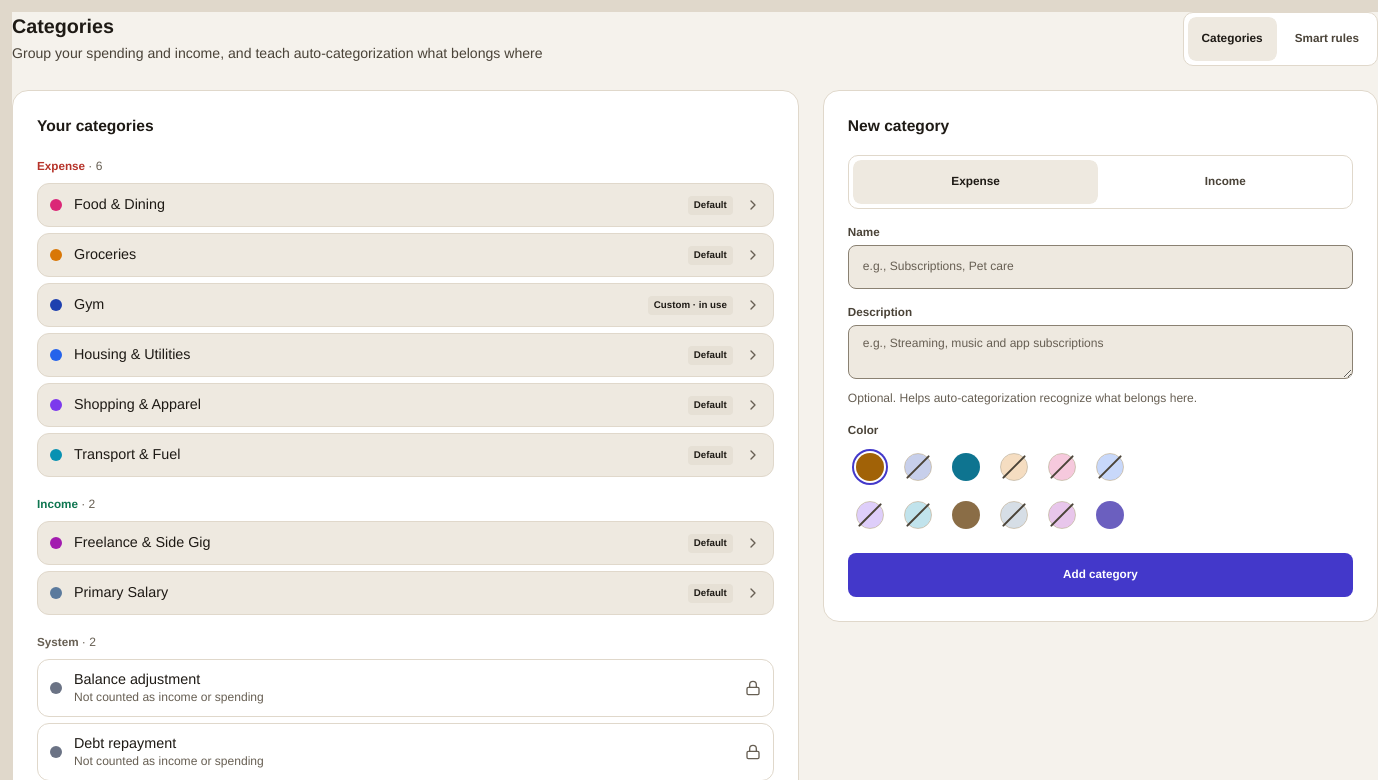
Test case: delete, from lg › a custom category in use has Delete disabled, with what uses it
Click the button with id "category-edit-gym" at (89, 304), box [37, 283, 774, 327]
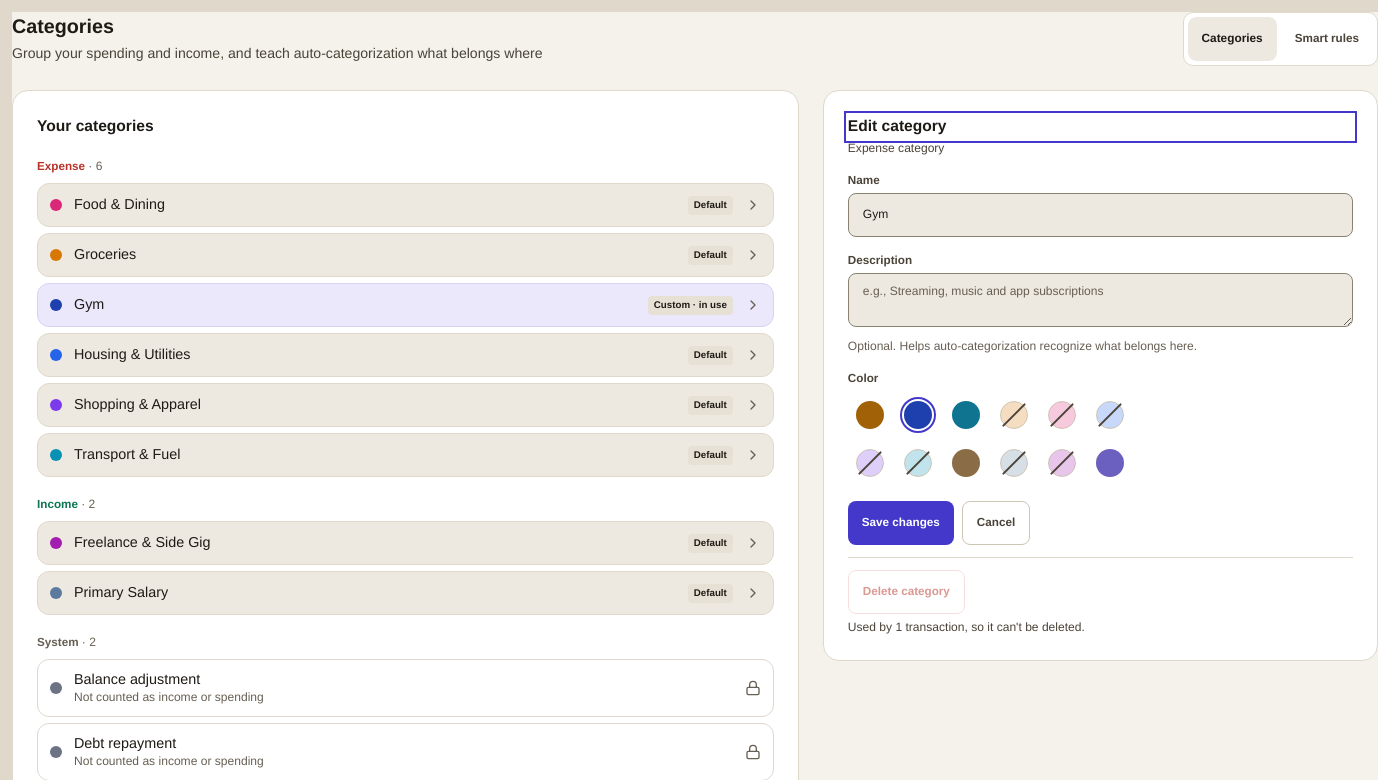
expect the button with id "category-delete-gym" is disabled: met, box [848, 570, 965, 614]
expect the text "Used by 1 transaction, so it can't be deleted." is shown: met, box [848, 618, 1085, 637]
